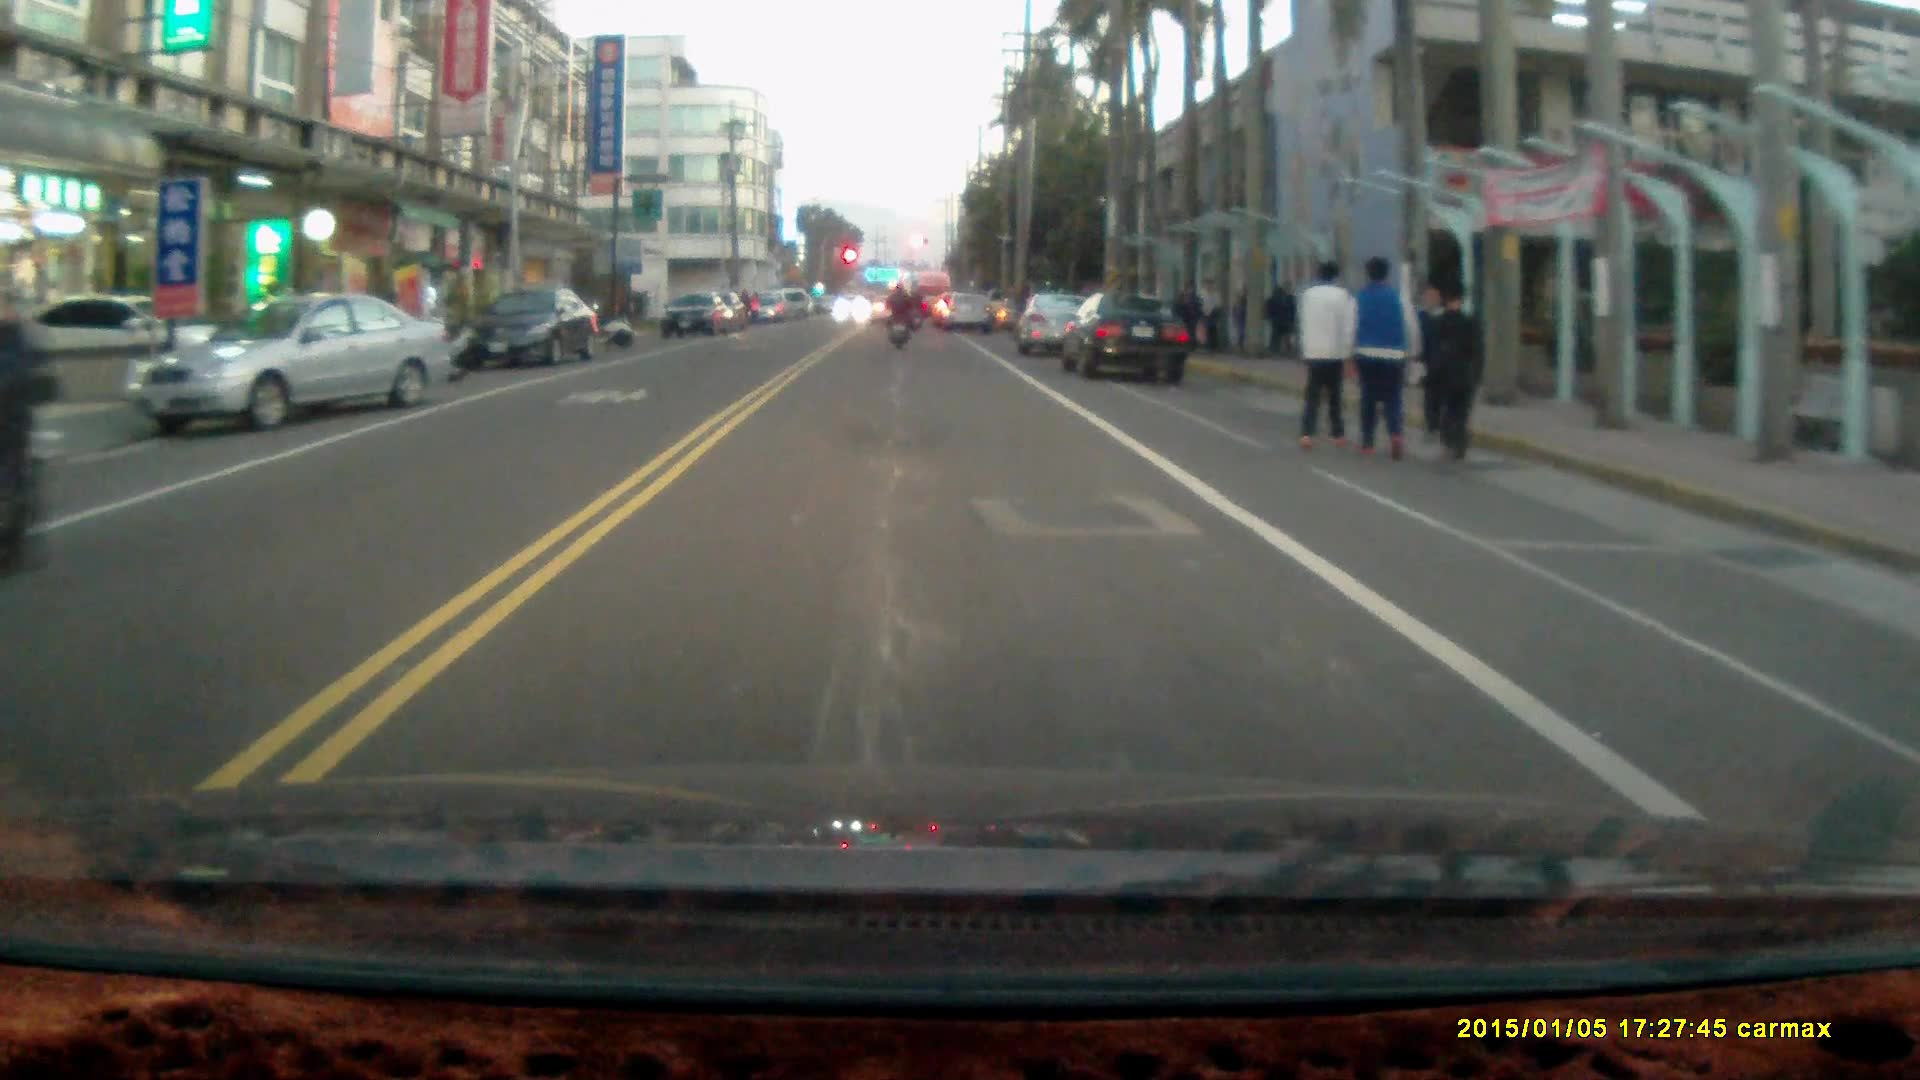pedestrian: (1338, 255, 1422, 468), (1292, 254, 1353, 451), (1427, 279, 1489, 467), (1171, 276, 1207, 358), (1262, 277, 1296, 358), (1195, 276, 1225, 361)
rider: (882, 282, 913, 353)
vehicle: (128, 291, 456, 431), (1063, 291, 1194, 382), (471, 283, 601, 367), (1021, 292, 1086, 355), (663, 291, 738, 340)
